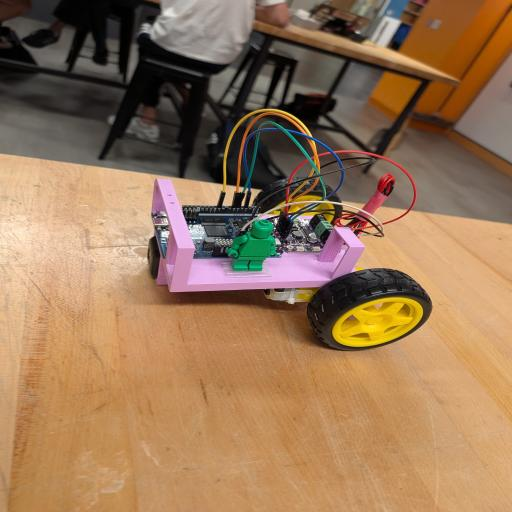Minifig: (227, 219, 276, 271)
